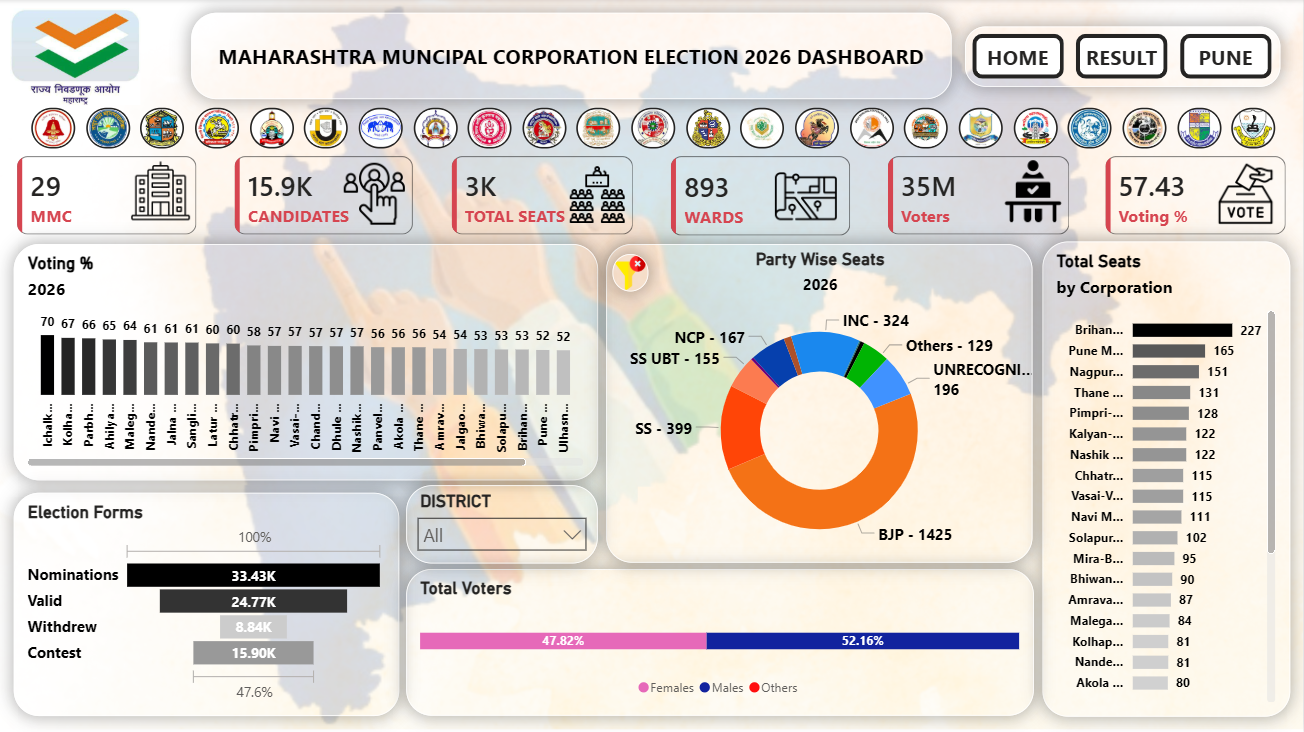

This screenshot's page, from the dashboard's own definition file:
{"tool":"powerbi","page":{"name":"MAIN","canvas":[1280,720],"ordinal":1},"visuals":[{"type":"clusteredBarChart","title":"Total Seats","fields":{"Y":["Sum(MH_state_election_26.TOTALSEATS)"],"Category":["MHSE 2026 data.CorporationName"]},"box":[1023.7,238,242.9,466.6],"z":0},{"type":"clusteredColumnChart","title":"Voting %","fields":{"Category":["MHSE 2026 data.CorporationName"],"Y":["Sum(MH_state_election_26.Voting_%_2026)"]},"box":[13.7,240.7,573.6,231.9],"z":1000},{"type":"group","id":"g1","title":"Group 1","box":[642.2,137.7,209.9,111.6],"z":2000},{"type":"cardVisual","fields":{"Data":["CountNonNull(MH_state_election_26.MUNICIPAL CORPORATION)"]},"box":[0,137.7,210,111.6],"z":3000,"group":"g6"},{"type":"funnel","title":"Election Forms","fields":{"Y":["Sum(Election Form Data.total nominations)","Sum(Election Form Data.valid )","Sum(Election Form Data.withdrew)","Sum(MH_state_election_26.NO OFCONTESTINGCANDIDATES)"]},"box":[13.7,484.4,378.7,219.6],"z":3000},{"type":"cardVisual","fields":{"Data":["calculations.total_candidates"]},"box":[214.1,137.7,209.9,111.6],"z":4000,"group":"g5"},{"type":"cardVisual","fields":{"Data":["Sum(MH_state_election_26.NO OFWARDS)"]},"box":[642.2,137.7,210,112.5],"z":4000,"group":"g1"},{"type":"group","id":"g2","title":"Group 2","box":[1070.1,137.7,209.9,111.6],"z":4000},{"type":"image","box":[127.6,159.1,60,60.6],"z":4000,"group":"g6"},{"type":"group","id":"g3","title":"Group 2","box":[428.1,137.7,210,111.6],"z":5000},{"type":"cardVisual","fields":{"Data":["Sum(MH_state_election_26.TOTALSEATS)"]},"box":[428.1,137.7,210,111.6],"z":5000,"group":"g3"},{"type":"cardVisual","fields":{"Data":["Sum(Voters Data.Total Registered Voters)"]},"box":[856.3,137.7,210,111.6],"z":5000,"group":"g4"},{"type":"cardVisual","fields":{"Data":["Avg(MH_state_election_26.Voting_%_2026)"]},"box":[1070.1,137.7,209.9,111.6],"z":5000,"group":"g2"},{"type":"group","id":"g4","title":"Group 2","box":[856.3,137.7,209.9,111.6],"z":6000},{"type":"image","box":[983.5,159.1,60.4,60.5],"z":6000,"group":"g4"},{"type":"image","box":[1192.2,161.4,60.4,60.5],"z":6000,"group":"g2"},{"type":"image","box":[555.7,163.5,61.4,57.7],"z":6000,"group":"g3"},{"type":"image","box":[756.4,162.9,70,60.5],"z":6002,"group":"g1"},{"type":"image","box":[337.6,161.4,60.4,60.5],"z":7000,"group":"g5"},{"type":"hundredPercentStackedBarChart","title":"Total Voters","fields":{"Y":["Sum(Voters Data.Females)","Sum(Voters Data.Males)","Sum(Voters Data.Others)"]},"box":[399.3,559.9,616.1,144.1],"z":7000},{"type":"image","box":[9.8,7.4,127.6,98.2],"z":8000},{"type":"group","id":"g5","title":"Group 3","box":[214.1,137.7,209.9,111.6],"z":9000},{"type":"group","id":"g6","title":"Group 4","box":[0,137.7,209.9,111.6],"z":10000},{"type":"shape","box":[187.7,13.5,746,84.7],"z":11000},{"type":"image","box":[1048.5,107,42.9,40],"z":11000,"group":"g7"},{"type":"image","box":[834.3,107,42.9,40],"z":12000,"group":"g7"},{"type":"donutChart","title":"Party Wise Seats","fields":{"Y":["Sum(MH_state_election_26.BJP)","Sum(MH_state_election_26.SS)","Sum(MH_state_election_26.SS - UBT)","Sum(MH_state_election_26.MNS)","Sum(MH_state_election_26.NCP)","Sum(MH_state_election_26.NCP-SP)","Sum(MH_state_election_26.INC)","Sum(MH_state_election_26.AAP)","Sum(MH_state_election_26.BSP)","Sum(MH_state_election_26.INDEPENDENT)","Sum(MH_state_election_26.PARTIES REGD. WITHSEC (RECOGNIZED ASSTATE PARTY FORSTATE OTHER THANMAHARASHTRA))","Sum(MH_state_election_26.UNRECOGNIZEDPARTIES (BVA))"]},"box":[595.5,240.1,418.5,312.9],"z":12000},{"type":"image","box":[941.4,107,42.9,40],"z":13000,"group":"g7"},{"type":"slicer","fields":{"Values":["MHSE 2026 data.DISTRICT"]},"box":[399.3,477.5,188,76.8],"z":13000},{"type":"pageNavigator","box":[947.2,27,309.2,58.9],"z":14000},{"type":"image","box":[994.9,107,42.9,40],"z":14000,"group":"g7"},{"type":"group","id":"g7","title":"Group 5","box":[31,107,1221,40],"z":15000},{"type":"image","box":[1155.6,107,42.9,40],"z":15000,"group":"g7"},{"type":"image","box":[513,107,42.9,40],"z":16000,"group":"g7"},{"type":"image","box":[601.2,250.3,35.6,36.8],"z":16000},{"type":"image","box":[459.4,107,42.9,40],"z":17000,"group":"g7"},{"type":"image","box":[566.5,107,42.9,40],"z":18000,"group":"g7"},{"type":"image","box":[620.1,107,42.9,40],"z":19000,"group":"g7"},{"type":"image","box":[673.6,107,42.9,40],"z":20000,"group":"g7"},{"type":"image","box":[727.2,107,42.9,40],"z":21000,"group":"g7"},{"type":"image","box":[780.7,107,42.9,40],"z":22000,"group":"g7"},{"type":"image","box":[31,107,42.9,40],"z":23000,"group":"g7"},{"type":"image","box":[84.6,107,42.9,40],"z":24000,"group":"g7"},{"type":"image","box":[352.3,107,42.9,40],"z":25000,"group":"g7"},{"type":"image","box":[887.8,107,42.9,40],"z":26000,"group":"g7"},{"type":"image","box":[191.7,107,42.9,40],"z":27000,"group":"g7"},{"type":"image","box":[245.2,107,42.9,40],"z":28000,"group":"g7"},{"type":"image","box":[298.8,107,42.9,40],"z":29000,"group":"g7"},{"type":"image","box":[405.9,107,42.9,40],"z":30000,"group":"g7"},{"type":"image","box":[138.1,107,42.9,40],"z":31000,"group":"g7"},{"type":"image","box":[1102,107,42.9,40],"z":32000,"group":"g7"},{"type":"image","box":[1209.1,107,42.9,40],"z":33000,"group":"g7"}]}

Visuals, with their boxes in screenshot pixels (x1, y1, x2, y2), scaled from the page's 1280x720 canvas onto the 1304x732 screenshot:
"Total Seats" clusteredBarChart: select_region(1043, 242, 1290, 716)
"Voting %" clusteredColumnChart: select_region(14, 245, 598, 480)
"Group 1" group: select_region(654, 140, 868, 253)
cardVisual - CountNonNull(MH_state_election_26.MUNICIPAL CORPORATION): select_region(0, 140, 214, 253)
"Election Forms" funnel: select_region(14, 492, 400, 716)
cardVisual - calculations.total_candidates: select_region(218, 140, 432, 253)
cardVisual - Sum(MH_state_election_26.NO OFWARDS): select_region(654, 140, 868, 254)
"Group 2" group: select_region(1090, 140, 1303, 253)
image: select_region(130, 162, 191, 223)
"Group 2" group: select_region(436, 140, 650, 253)
cardVisual - Sum(MH_state_election_26.TOTALSEATS): select_region(436, 140, 650, 253)
cardVisual - Sum(Voters Data.Total Registered Voters): select_region(872, 140, 1086, 253)
cardVisual - Avg(MH_state_election_26.Voting_%_2026): select_region(1090, 140, 1303, 253)
"Group 2" group: select_region(872, 140, 1086, 253)
image: select_region(1002, 162, 1063, 223)
image: select_region(1215, 164, 1276, 226)
image: select_region(566, 166, 629, 225)
image: select_region(771, 166, 842, 227)
image: select_region(344, 164, 405, 226)
"Total Voters" hundredPercentStackedBarChart: select_region(407, 569, 1034, 716)
image: select_region(10, 8, 140, 107)
"Group 3" group: select_region(218, 140, 432, 253)
"Group 4" group: select_region(0, 140, 214, 253)
shape: select_region(191, 14, 951, 100)
image: select_region(1068, 109, 1112, 149)
image: select_region(850, 109, 894, 149)
"Party Wise Seats" donutChart: select_region(607, 244, 1033, 562)
image: select_region(959, 109, 1003, 149)
slicer - MHSE 2026 data.DISTRICT: select_region(407, 485, 598, 564)
pageNavigator: select_region(965, 27, 1280, 87)
image: select_region(1014, 109, 1057, 149)
"Group 5" group: select_region(32, 109, 1275, 149)
image: select_region(1177, 109, 1221, 149)
image: select_region(523, 109, 566, 149)
image: select_region(612, 254, 649, 292)
image: select_region(468, 109, 512, 149)
image: select_region(577, 109, 621, 149)
image: select_region(632, 109, 675, 149)
image: select_region(686, 109, 730, 149)
image: select_region(741, 109, 785, 149)
image: select_region(795, 109, 839, 149)
image: select_region(32, 109, 75, 149)
image: select_region(86, 109, 130, 149)
image: select_region(359, 109, 403, 149)
image: select_region(904, 109, 948, 149)
image: select_region(195, 109, 239, 149)
image: select_region(250, 109, 294, 149)
image: select_region(304, 109, 348, 149)
image: select_region(414, 109, 457, 149)
image: select_region(141, 109, 184, 149)
image: select_region(1123, 109, 1166, 149)
image: select_region(1232, 109, 1275, 149)
